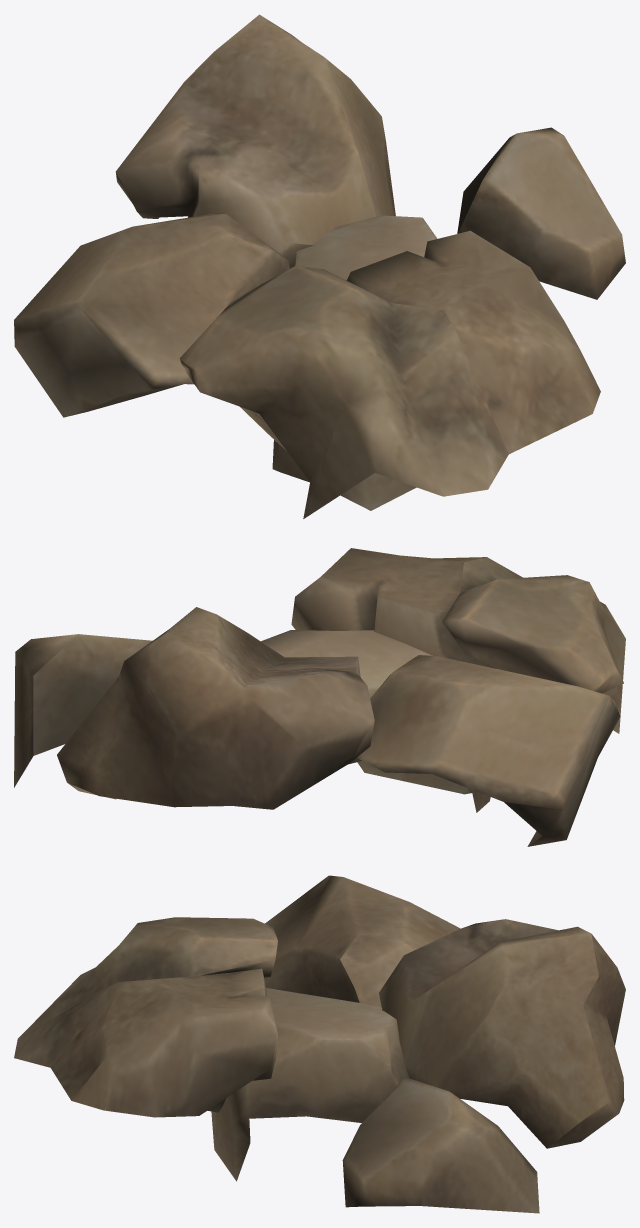
Rendered from Ground26_Terrain_LostTemple_001.FBX.
3 views of the same model, one above another, from view 1: azimuth 30°, elevation 25°; view 2: azimuth 150°, elevation 25°; view 3: azimuth 270°, elevation 25° (orthographic). The views are drawn at different scales.
Visible parts, largest first — view 1: Ground26_Terrain_LostTemple_001; view 2: Ground26_Terrain_LostTemple_001; view 3: Ground26_Terrain_LostTemple_001.
Boxes of the visible parts, <box> form: Ground26_Terrain_LostTemple_001: <box>14,14,625,518</box>; Ground26_Terrain_LostTemple_001: <box>14,548,625,846</box>; Ground26_Terrain_LostTemple_001: <box>14,875,625,1213</box>.
Bounding box in the file's own units: 676 × 339 × 717.
Materials: 1 (1 with a texture image).
